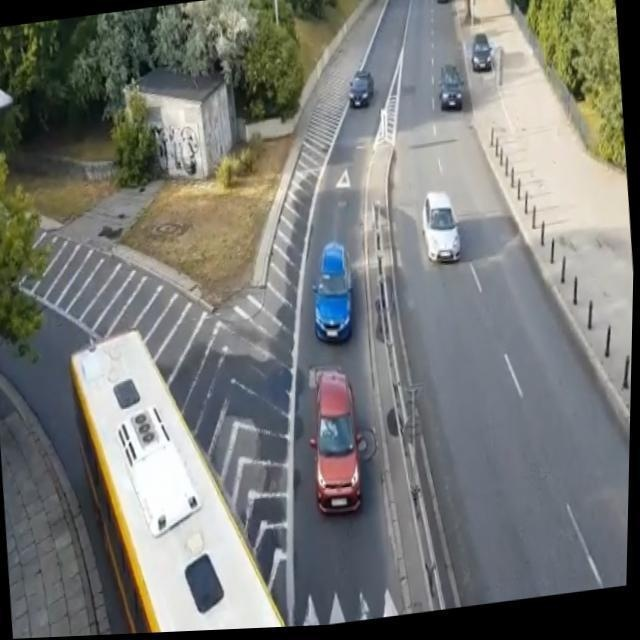Car: (306, 371, 369, 519), (313, 245, 358, 348), (420, 192, 464, 271), (432, 62, 471, 115), (345, 66, 378, 114), (466, 32, 497, 77)
